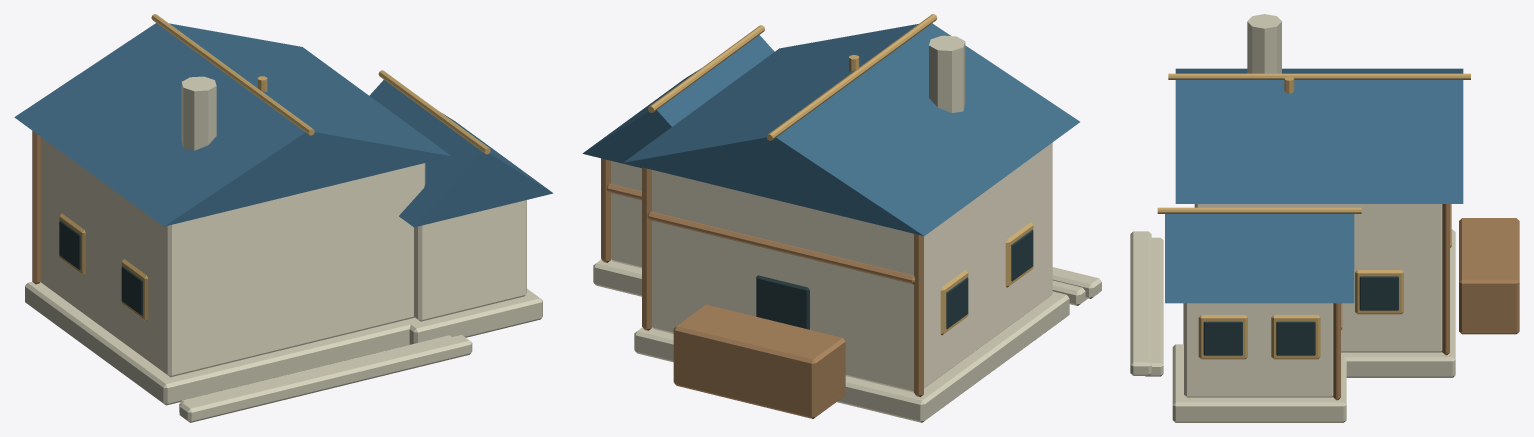
File: level_15.glb
3 renders of one model, left to right at view 1: azimuth 30°, elevation 25°; view 2: azimuth 150°, elevation 25°; view 3: azimuth 270°, elevation 25°, orthographic. The views are drawn at different scales.
Visible parts, largest first — view 1: workshop — level 15; view 2: workshop — level 15; view 3: workshop — level 15.
Part boxes in pixels (<box>): workshop — level 15: <box>14,14,553,422</box>; workshop — level 15: <box>582,14,1101,422</box>; workshop — level 15: <box>1130,14,1519,422</box>.
Size of the model in its own units: 5.64 by 3.84 by 5.14.
